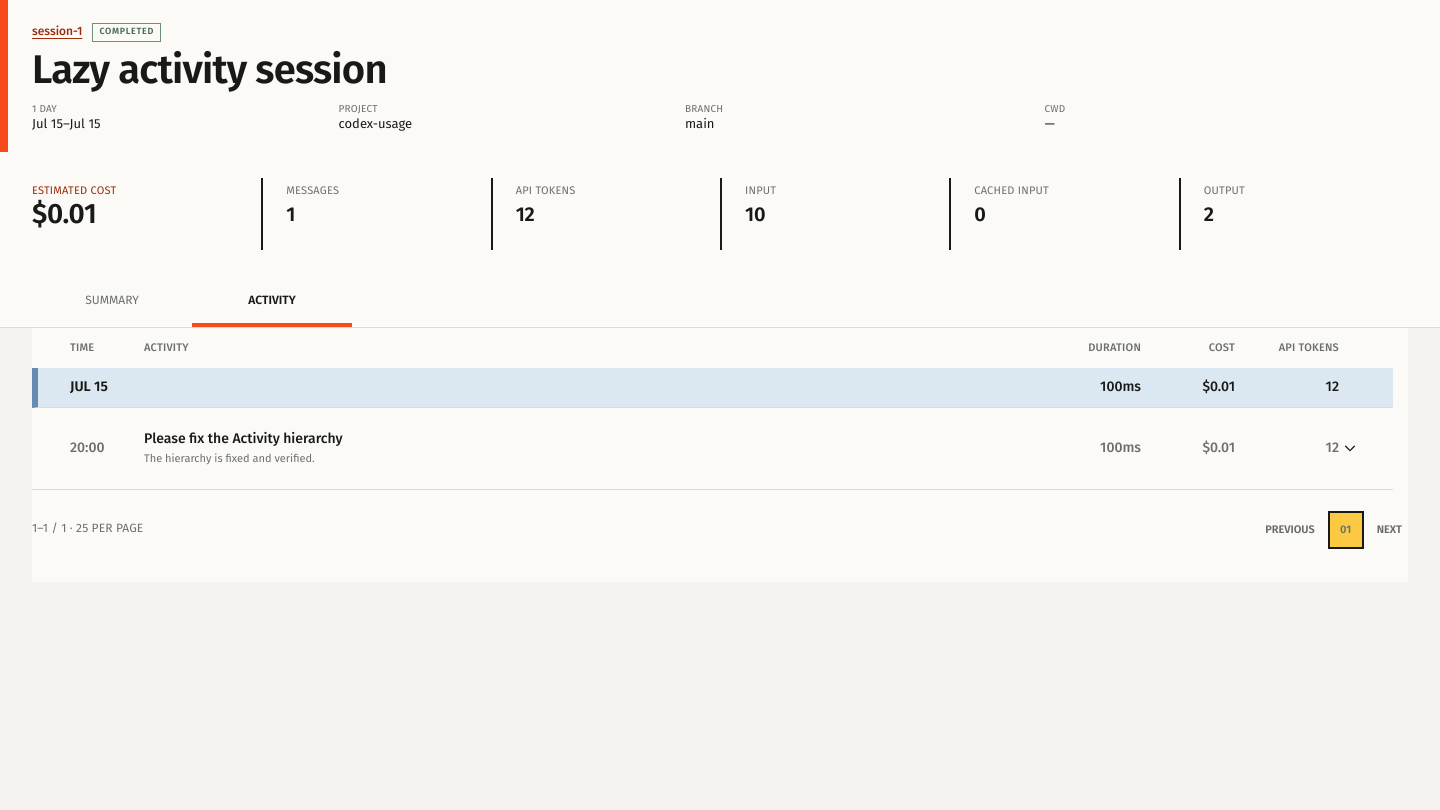
Test: SessionDetailPage activity › opens preloaded exchange children locally without a detail request
This screenshot has width=1440, height=810.
Click the button "Please fix the Activity hierarchy" at {"x": 243, "y": 438}, box top-left (144, 430), bottom-right (1023, 467)
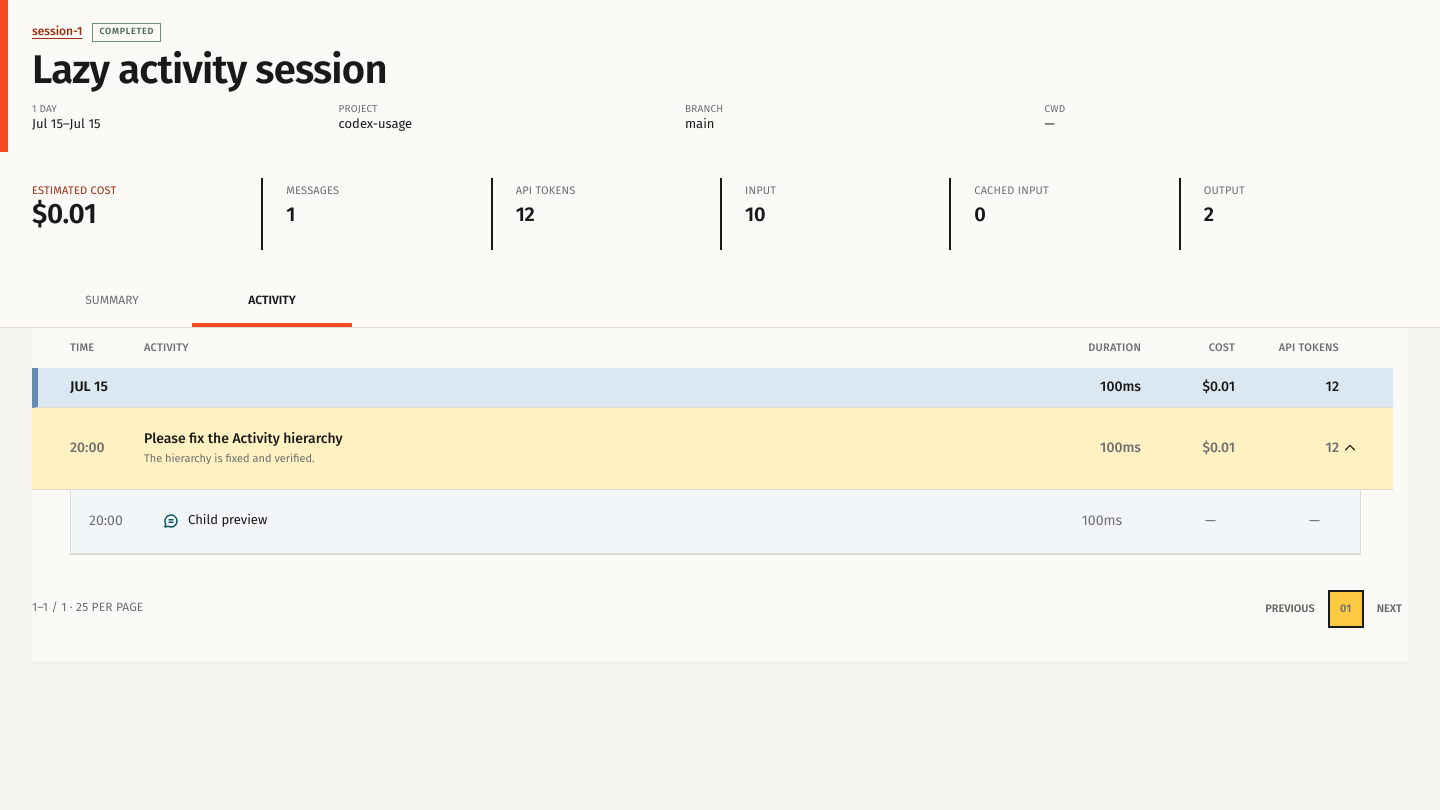
Check: the text "Child preview" is shown, box top-left (188, 513), bottom-right (267, 528)
